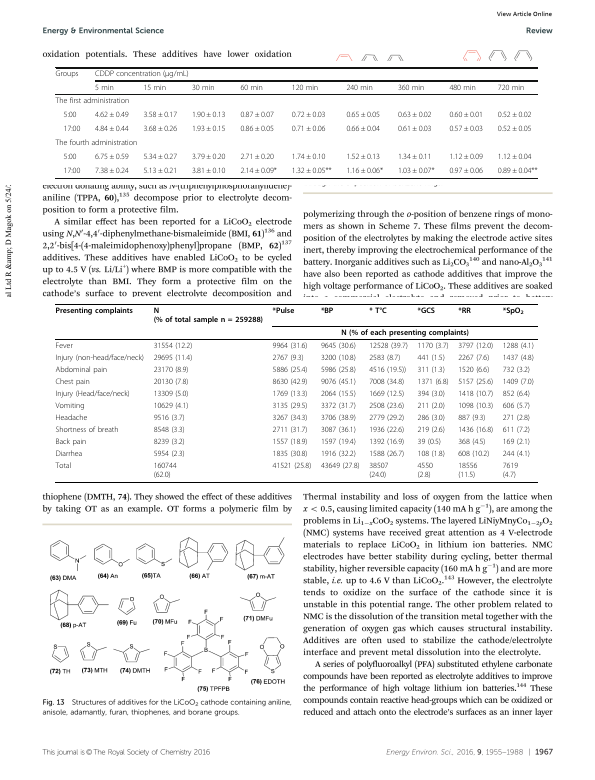borderless: (54, 302, 538, 482), (54, 66, 538, 178)
cell: (153, 306, 264, 324), (340, 328, 470, 338), (55, 353, 145, 363), (94, 70, 190, 79), (55, 138, 138, 148), (55, 389, 131, 399), (55, 96, 130, 106), (55, 306, 134, 315), (55, 425, 119, 435), (55, 365, 108, 375), (153, 461, 177, 479), (368, 341, 409, 351), (291, 166, 332, 176), (497, 166, 538, 176), (153, 341, 193, 351), (153, 353, 193, 363), (368, 365, 407, 375), (239, 166, 278, 176), (345, 166, 384, 176), (397, 166, 435, 176), (368, 461, 389, 479), (457, 461, 478, 479), (320, 341, 357, 351), (457, 341, 494, 351), (320, 353, 357, 363), (320, 365, 357, 375), (320, 377, 357, 387), (368, 377, 405, 387), (457, 377, 494, 387), (320, 389, 357, 399), (368, 389, 405, 399), (457, 389, 494, 399), (320, 401, 357, 411), (368, 401, 405, 411), (457, 401, 494, 411), (320, 413, 357, 423), (368, 413, 405, 423), (320, 425, 357, 435), (368, 425, 405, 435), (457, 425, 494, 435), (272, 341, 308, 351), (153, 365, 189, 375), (272, 365, 308, 375), (55, 377, 91, 387), (153, 377, 189, 387), (272, 377, 308, 387), (153, 389, 189, 399), (272, 389, 308, 399), (153, 401, 189, 411), (272, 401, 308, 411), (272, 413, 308, 423), (272, 425, 308, 435), (272, 461, 312, 470), (320, 461, 360, 470), (94, 110, 130, 120), (142, 110, 178, 120), (239, 110, 275, 120), (345, 110, 381, 120), (448, 110, 484, 120), (94, 124, 130, 134), (142, 124, 178, 134), (239, 124, 275, 134), (345, 124, 381, 134), (448, 124, 484, 134), (94, 152, 130, 162), (142, 152, 178, 162), (239, 152, 275, 162), (345, 152, 381, 162), (448, 152, 484, 162), (94, 166, 130, 176), (142, 166, 178, 176), (448, 166, 484, 176), (191, 110, 226, 120), (291, 110, 326, 120), (397, 110, 432, 120), (497, 110, 532, 120), (191, 124, 226, 134), (291, 124, 326, 134), (397, 124, 432, 134), (497, 124, 532, 134), (191, 152, 226, 162), (291, 152, 326, 162), (397, 152, 432, 162), (497, 152, 532, 162), (191, 166, 226, 176), (320, 437, 357, 446), (368, 437, 405, 446), (320, 449, 357, 458), (368, 449, 405, 458), (416, 341, 449, 351), (502, 341, 535, 351), (272, 353, 305, 363), (368, 353, 401, 363), (457, 353, 490, 363), (502, 353, 535, 363), (457, 365, 490, 375), (416, 377, 449, 387), (502, 377, 535, 387), (55, 413, 88, 423), (153, 413, 186, 423), (153, 425, 186, 435), (272, 437, 308, 446), (272, 449, 308, 458), (416, 461, 434, 479), (502, 461, 519, 479), (416, 353, 446, 363), (416, 365, 446, 375), (416, 389, 446, 399), (55, 401, 85, 411), (416, 401, 446, 411), (416, 413, 446, 423), (416, 425, 446, 435), (153, 437, 186, 446), (153, 449, 186, 458), (457, 449, 490, 458), (502, 365, 531, 375), (502, 389, 531, 399), (502, 401, 531, 411), (457, 413, 486, 423), (502, 413, 531, 423), (502, 425, 531, 435), (55, 437, 87, 446), (416, 449, 446, 458), (457, 437, 486, 446), (502, 437, 531, 446), (502, 449, 531, 458), (345, 83, 374, 92), (448, 83, 477, 92), (55, 449, 83, 458), (291, 83, 319, 92), (397, 83, 425, 92), (497, 83, 525, 92), (416, 437, 442, 446), (502, 306, 525, 316), (142, 83, 167, 92), (239, 83, 264, 92), (55, 70, 79, 79), (191, 83, 215, 92), (272, 306, 295, 315), (55, 341, 74, 351), (62, 124, 81, 134), (62, 166, 81, 176), (94, 83, 115, 92), (368, 306, 388, 315), (416, 306, 436, 315), (55, 461, 72, 470), (62, 110, 77, 120), (62, 152, 77, 162), (457, 306, 472, 315), (320, 306, 334, 315)
